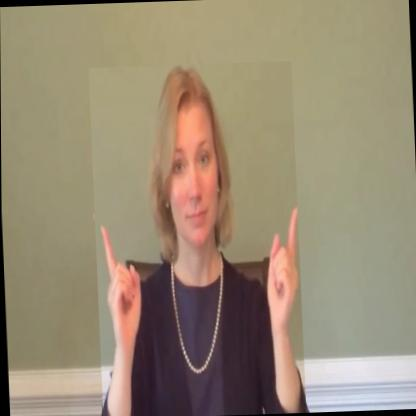NiceToMeetYou: (88, 61, 305, 416)
